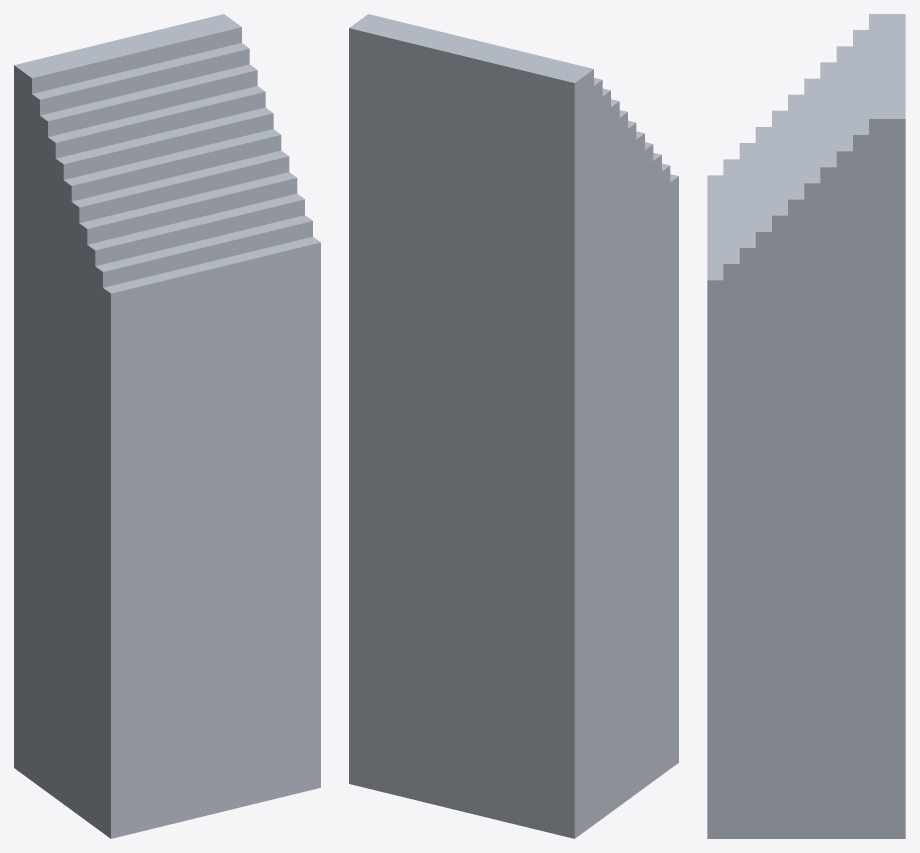
File: public-stairs.fbx
3 views of the same model, side by side, from view 1: azimuth 30°, elevation 25°; view 2: azimuth 150°, elevation 25°; view 3: azimuth 270°, elevation 25° (orthographic). The views are drawn at different scales.
Parts seen in each view (by area): view 1: 8. public-stairs; view 2: 8. public-stairs; view 3: 8. public-stairs.
Part boxes in pixels (x1,y1,x2,y2): 8. public-stairs: [14, 14, 320, 838]; 8. public-stairs: [349, 14, 678, 838]; 8. public-stairs: [707, 14, 905, 838].
Bounding box in the file's own units: 5.09 × 16.29 × 4.07.
